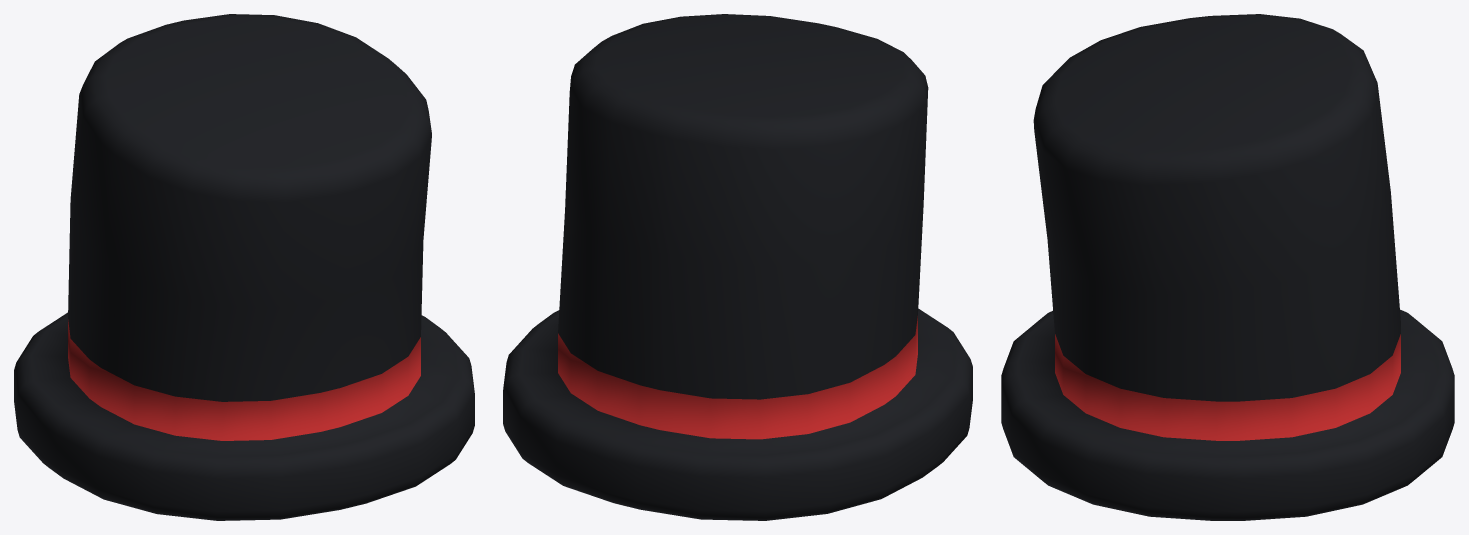
File: hat.glb
3 views of the same model, side by side, from view 1: azimuth 30°, elevation 25°; view 2: azimuth 150°, elevation 25°; view 3: azimuth 270°, elevation 25° (orthographic).
Visible parts, largest first — view 1: Cube; view 2: Cube; view 3: Cube.
Boxes of the visible parts, <box> form: Cube: <box>14,14,474,520</box>; Cube: <box>503,14,972,520</box>; Cube: <box>1001,14,1454,520</box>.
Bounding box in the file's own units: 1.34 × 1.17 × 1.34.
